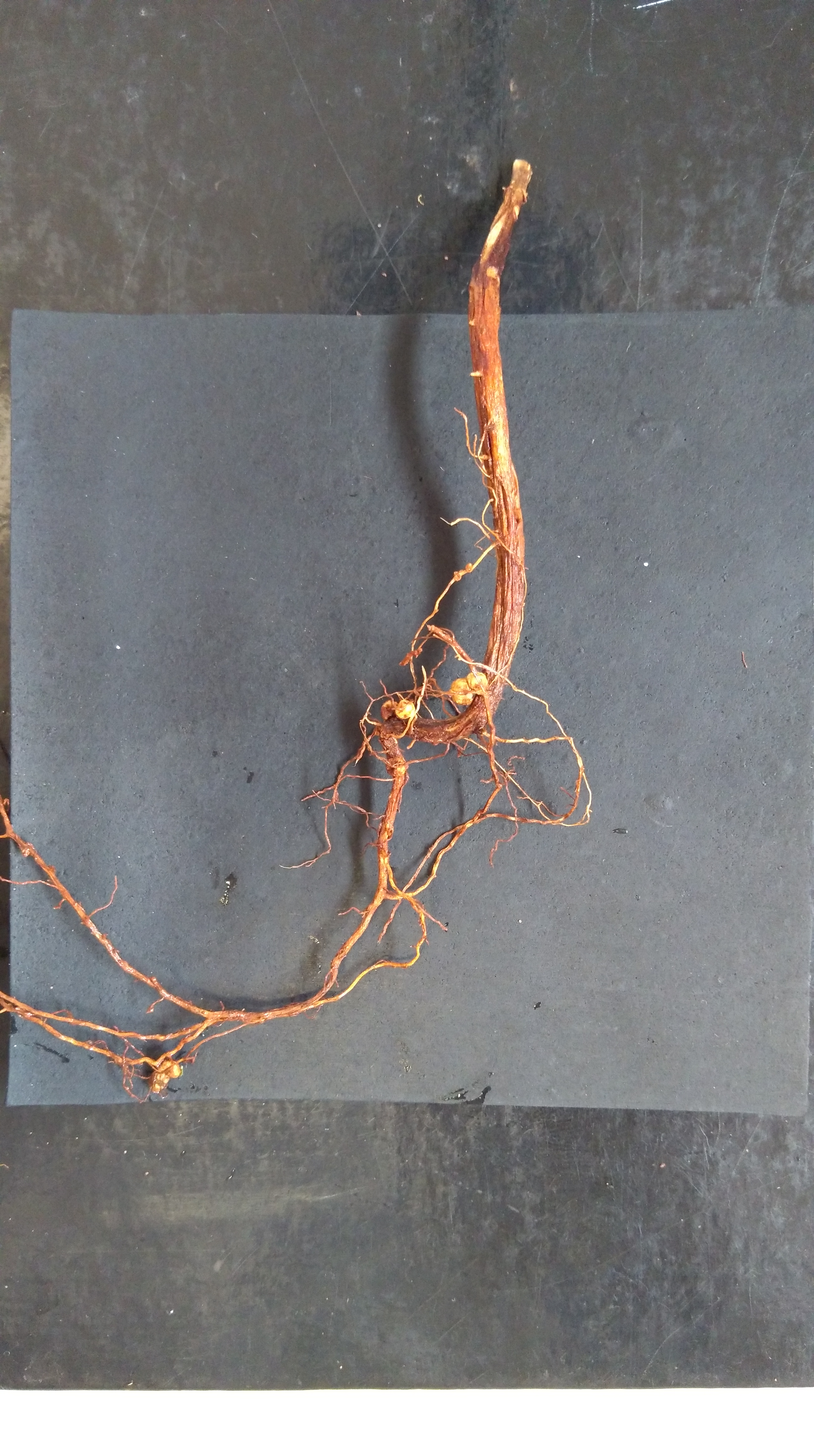nodule: (448, 676, 476, 707), (465, 669, 489, 693), (394, 699, 416, 720), (385, 757, 409, 776), (379, 699, 398, 722), (151, 1073, 171, 1093), (165, 1063, 183, 1080), (465, 563, 473, 573), (453, 571, 461, 581), (374, 728, 380, 736)
